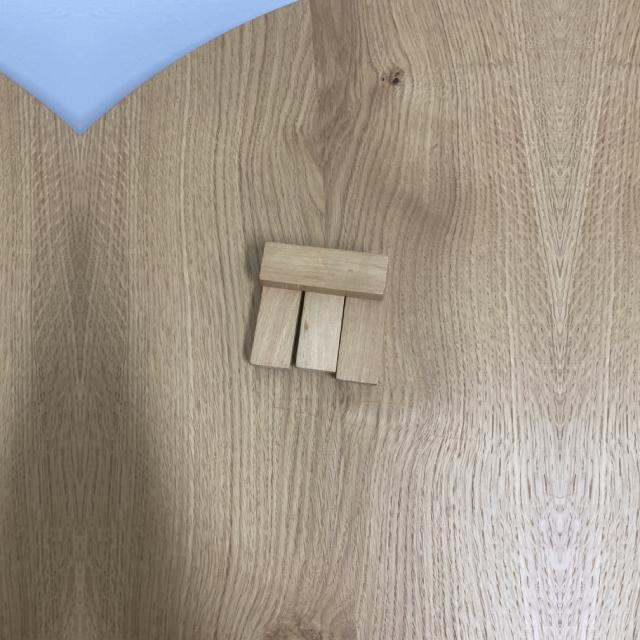jenga: (258, 240, 388, 292), (338, 296, 387, 385), (251, 283, 302, 368), (295, 290, 345, 373)
